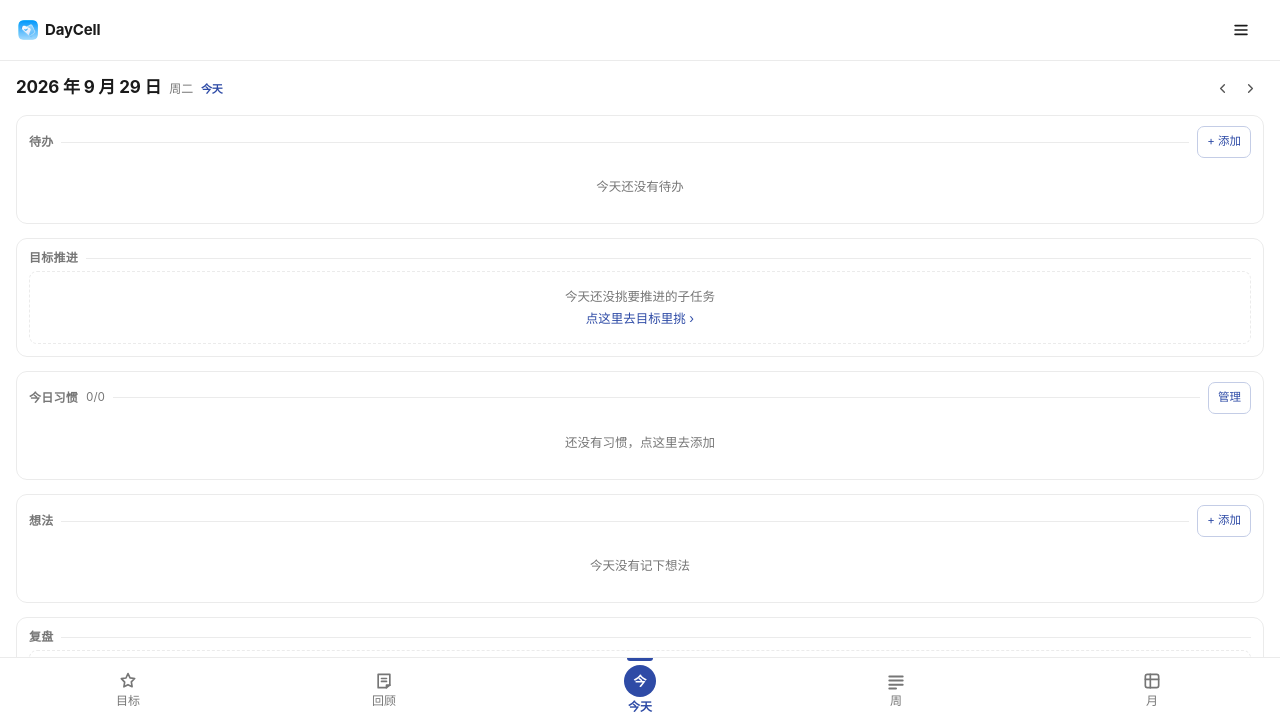
Test: 习惯模块（v8.0） › 今天视图有「今日习惯」区块；空状态引导去设置
The width and height of the screenshot is (1280, 720).
Expected: the heading "今日习惯" is shown, [29,389,78,407]
点击空状态 → 打开习惯设置
What coordinates should you click on to do the following:
click the button "还没有习惯，点这里去添加"
I would click on:
 (640, 442)
Its box is [29,418,1251,467].
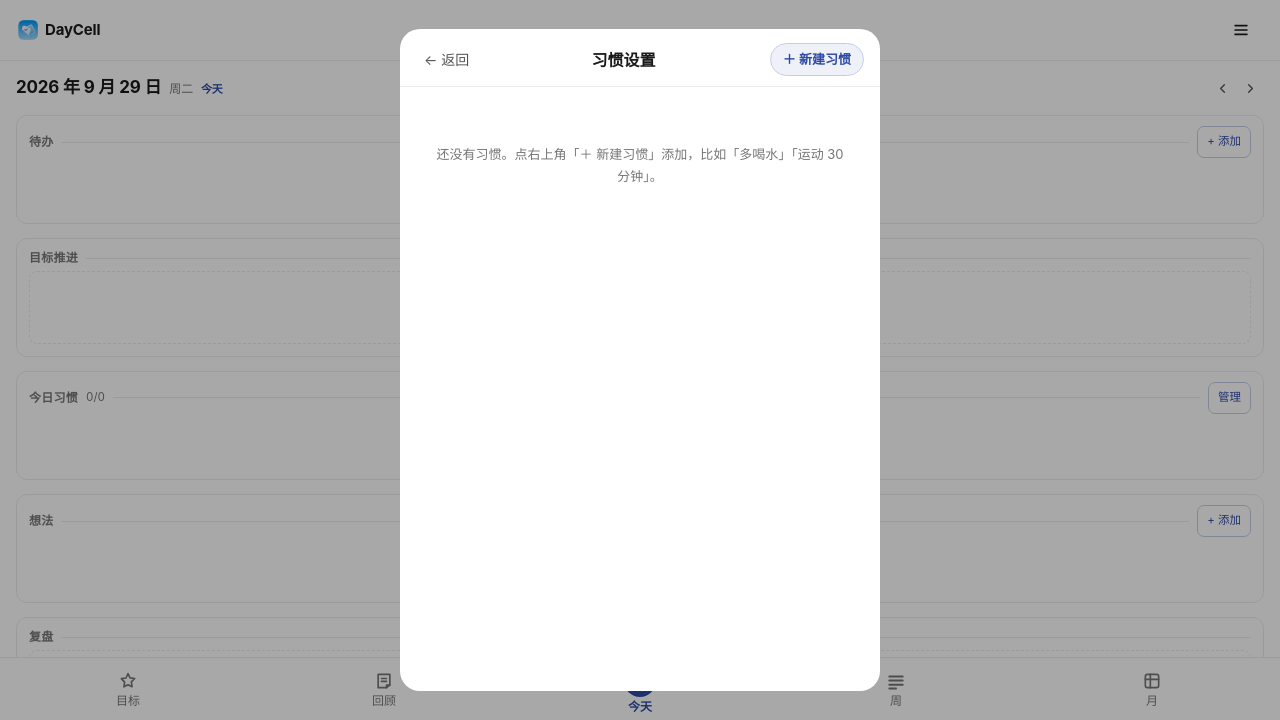
Expected: the dialog "习惯设置" is shown
